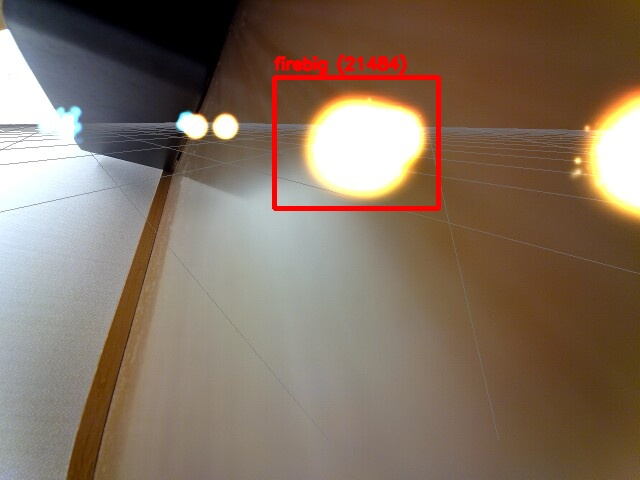firebig: (274, 77, 438, 208)
